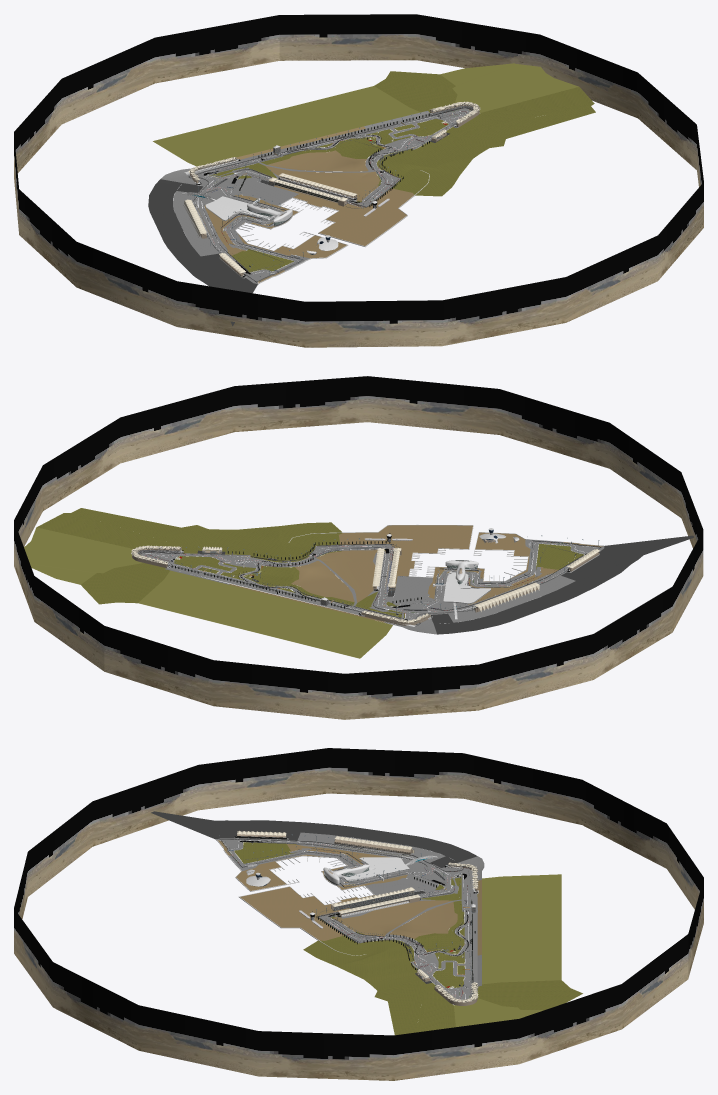
Rendered from abu-dhabi.glb.
3 renders of one model, top to bottom at view 1: azimuth 30°, elevation 25°; view 2: azimuth 150°, elevation 25°; view 3: azimuth 270°, elevation 25°, orthographic.
Parts seen in each view (by area): view 1: dcgp_yas_marina_2026; view 2: dcgp_yas_marina_2026; view 3: dcgp_yas_marina_2026.
Boxes of the visible parts, x1=… form: dcgp_yas_marina_2026: x1=14, y1=14, x2=703, y2=347; dcgp_yas_marina_2026: x1=14, y1=376, x2=703, y2=719; dcgp_yas_marina_2026: x1=14, y1=748, x2=703, y2=1080.
Size of the model in its own units: 2795 by 206 by 2835.
185 materials, 143 textured.
